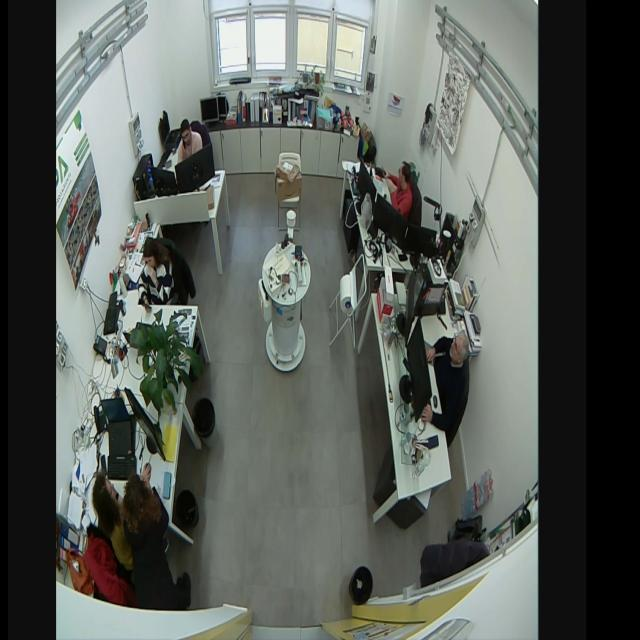Persona: (122, 464, 193, 611), (420, 327, 471, 435), (90, 468, 130, 576), (136, 232, 175, 314), (382, 157, 414, 220), (176, 115, 206, 167)
